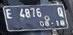clone-license-plate: (1, 4, 67, 29)
